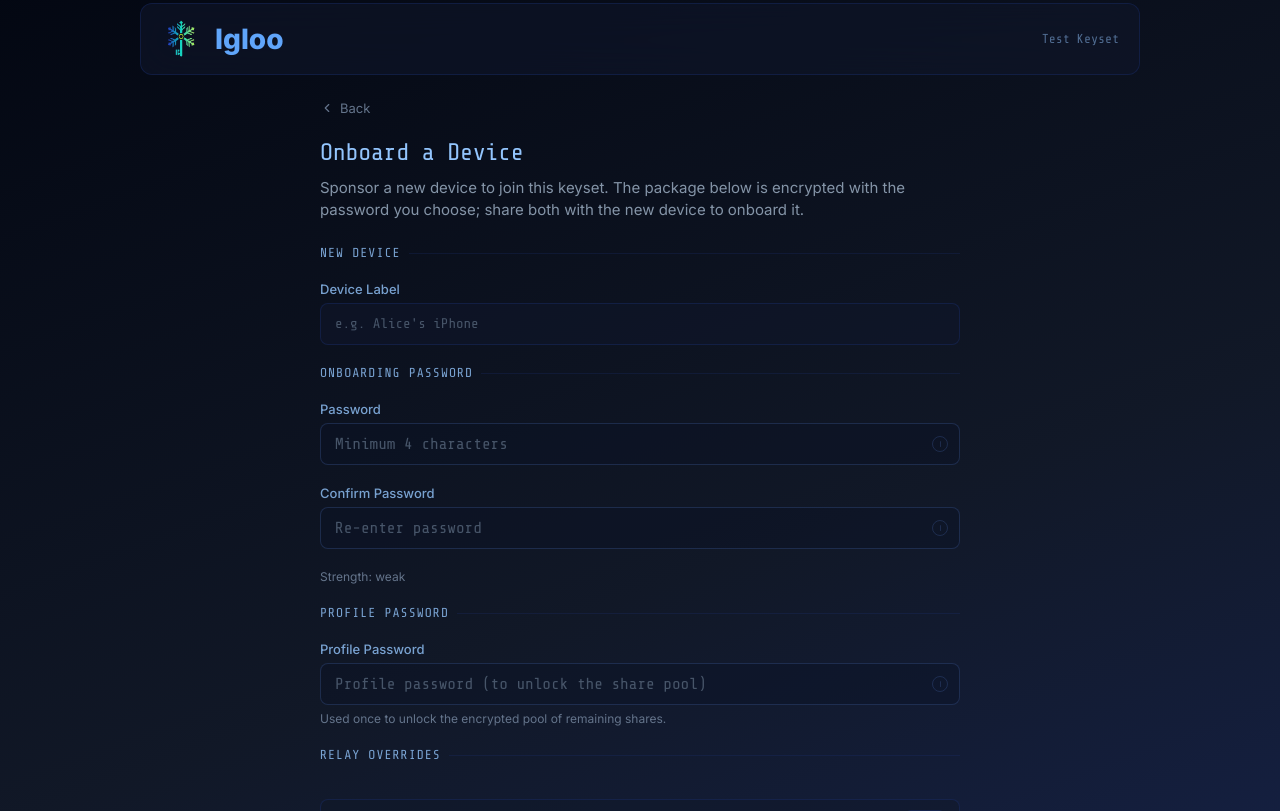
OnboardSponsorConfigScreen — VAL-ONBOARD-003 / 019 / 021 / 024 › leaves CTA disabled when the label is empty (VAL-ONBOARD-003)
# Even with valid password, CTA remains disabled when label is empty.
Type "super-secret-1" into the password field with test id "onboard-sponsor-password-input" at [640, 444], box [320, 423, 960, 465]
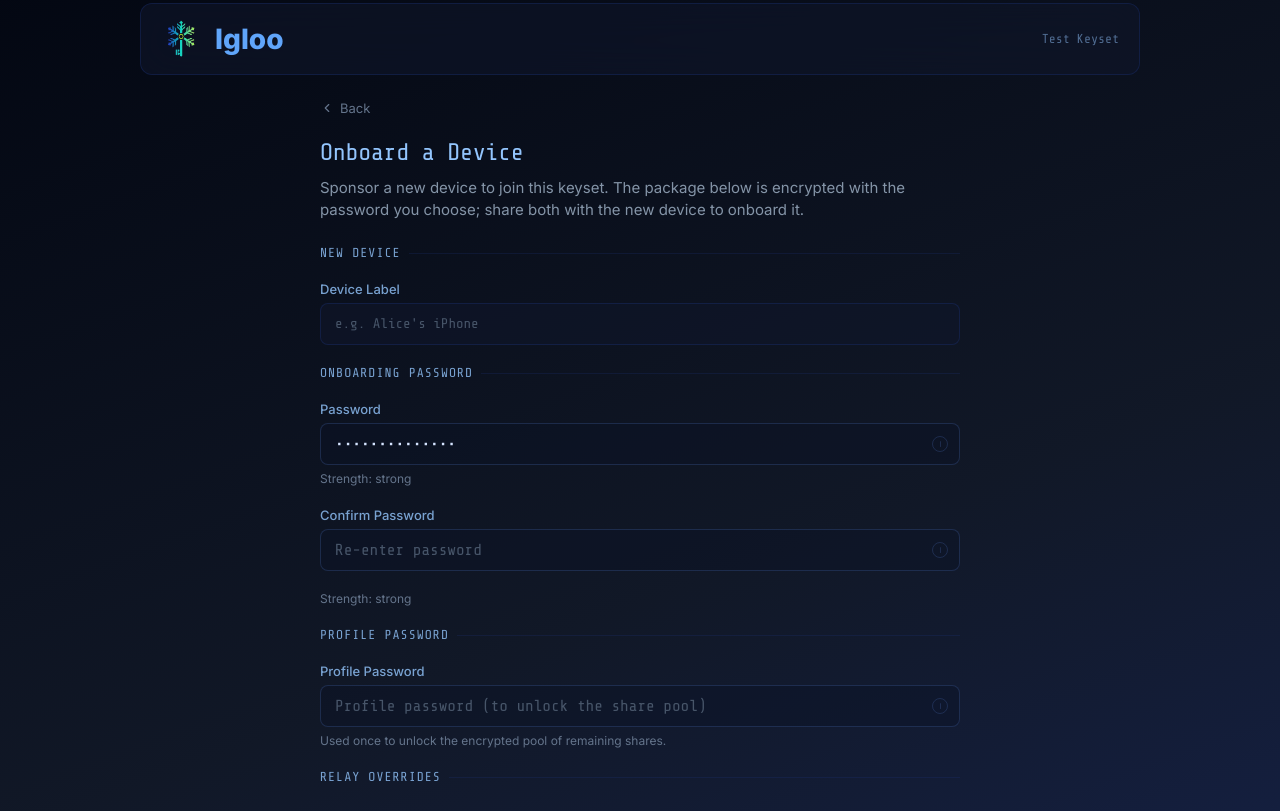
Type "super-secret-1" into the password field with test id "onboard-sponsor-confirm-input" at [640, 550], box [320, 529, 960, 571]
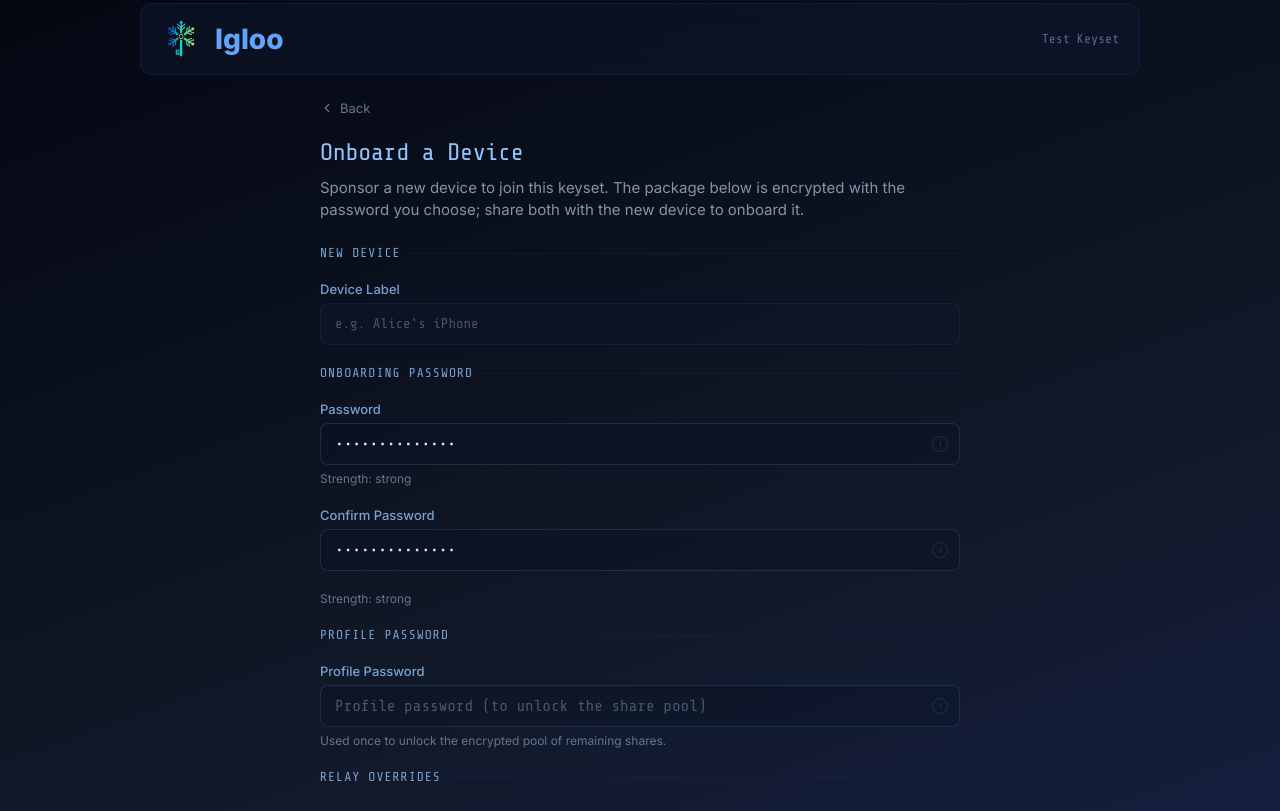
Type "profile-password-1" into the password field with test id "onboard-sponsor-profile-password-input" at [640, 706], box [320, 685, 960, 727]
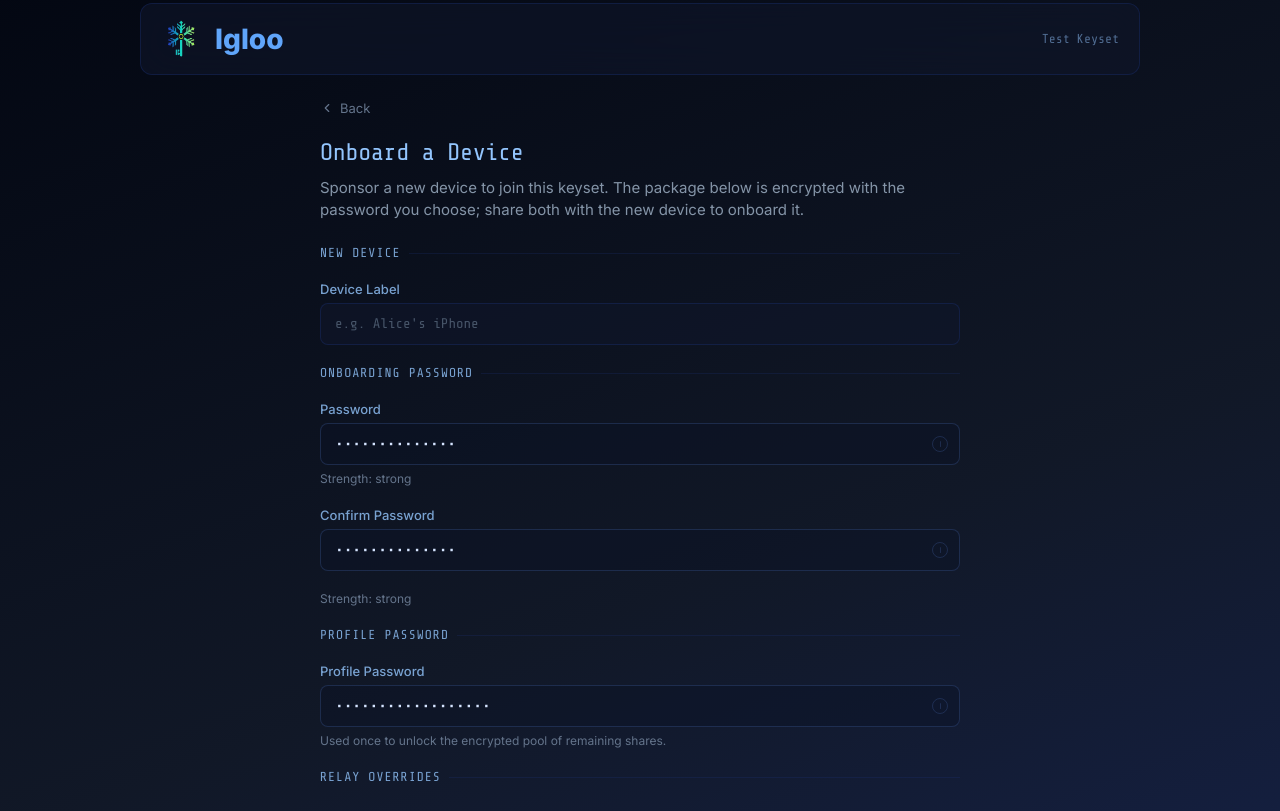
# Fill label — CTA enables.
Type "Bob" into the field with test id "onboard-sponsor-label-input" at [640, 324], box [320, 303, 960, 345]
(page scrolled)
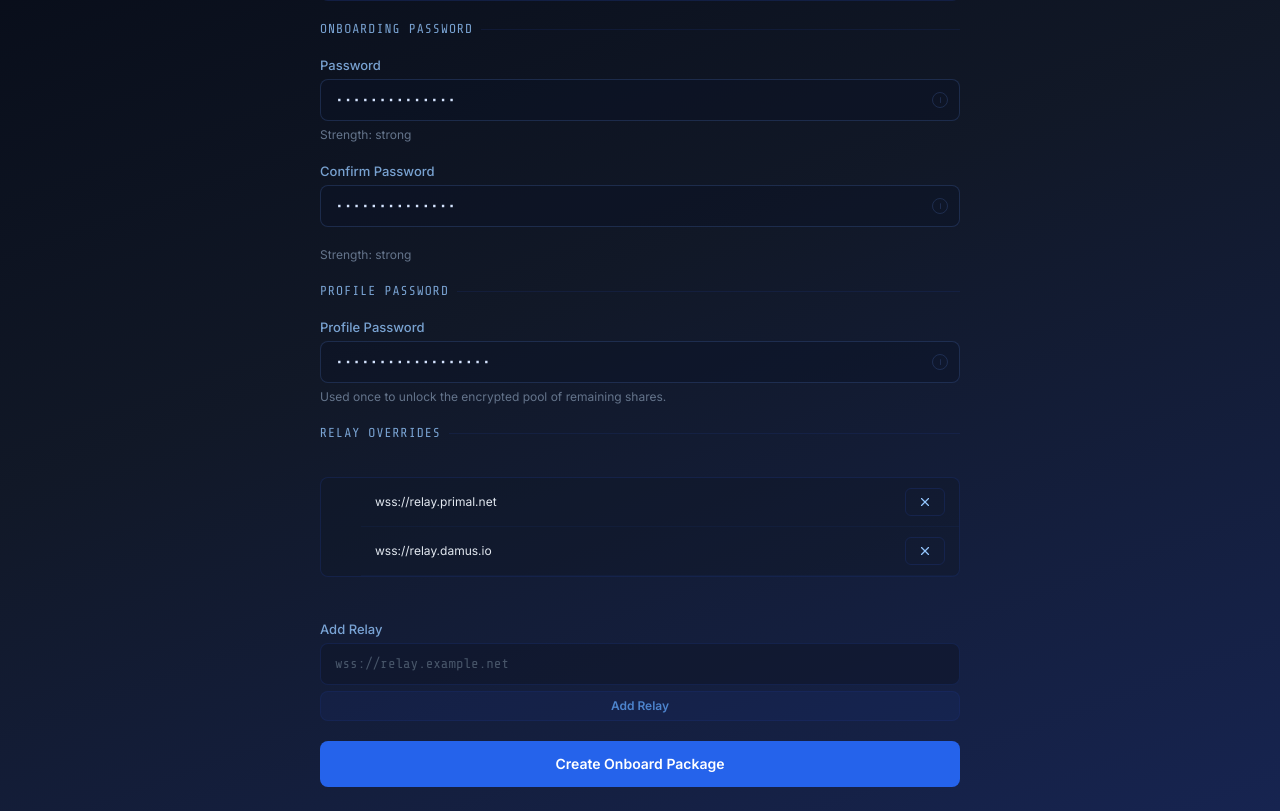
Check: the button with test id "onboard-sponsor-create-btn" is enabled, box [320, 741, 960, 787]
